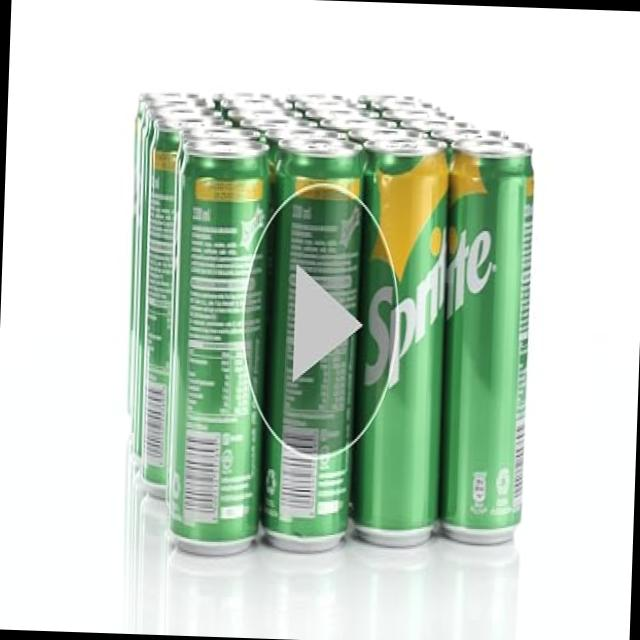sprite: (257, 140, 365, 572), (437, 130, 538, 564), (172, 166, 284, 553), (358, 140, 458, 572)
